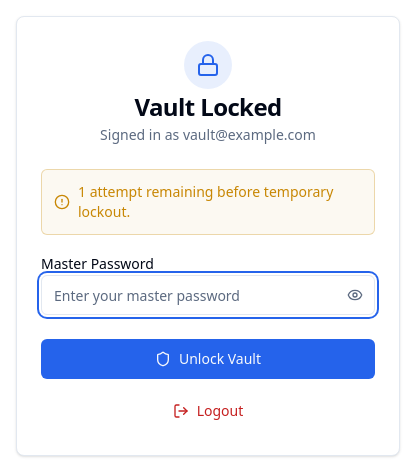
Test case: unlock rate limiting — client-side lockout (real component) › locks out for 2s the moment the failure threshold (5) is reached
The image size is (417, 474).
Type "wrong-password" into the password field labelled "Master Password".
click(208, 295); type("wrong-password")  # box [41,275,375,315]
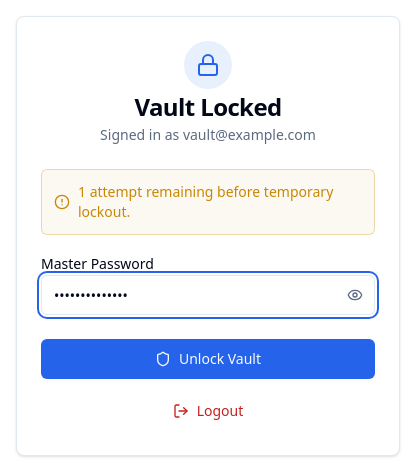
Click the button "Unlock Vault".
click(208, 359)  # box [41,339,375,379]
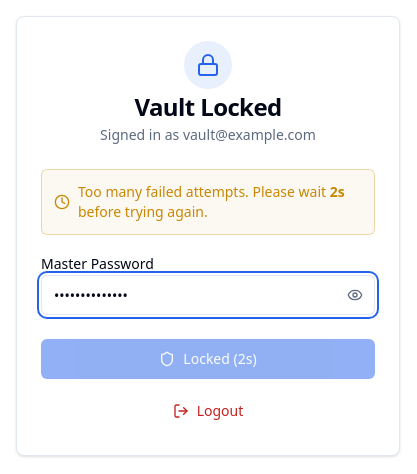
Result: the button "Locked (2s)" is disabled at [41,339,375,379]
